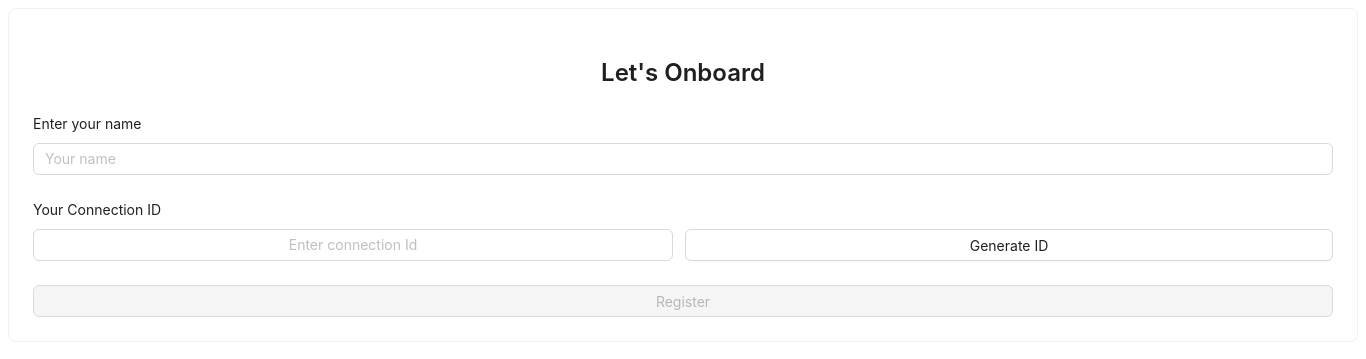
Scenario: RegisterForm › should show validation error for name less than 3 characters
Type "Ab" into the field with placeholder "Your name".
click(683, 159); type("Ab")  # box [33,143,1333,175]
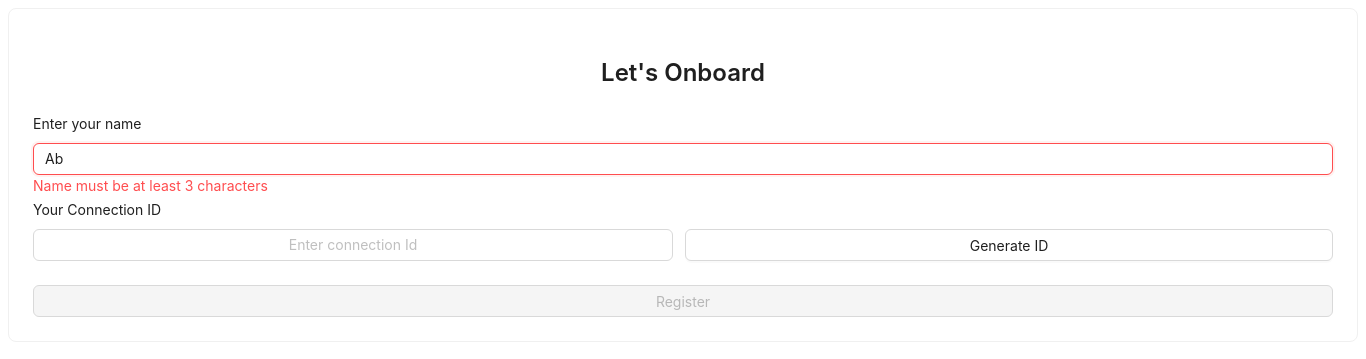
expect the text "Name must be at least 3 characters" is shown: met, box [33,177,268,194]
